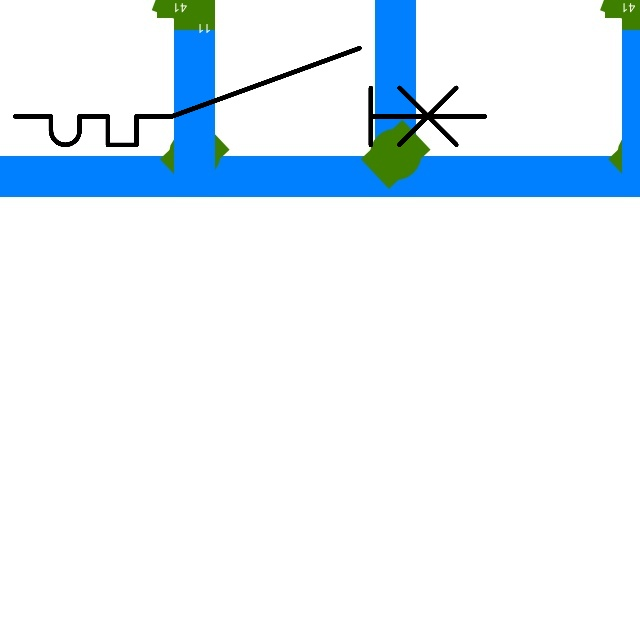interruptor_termomagnetico: (3, 36, 497, 157)
